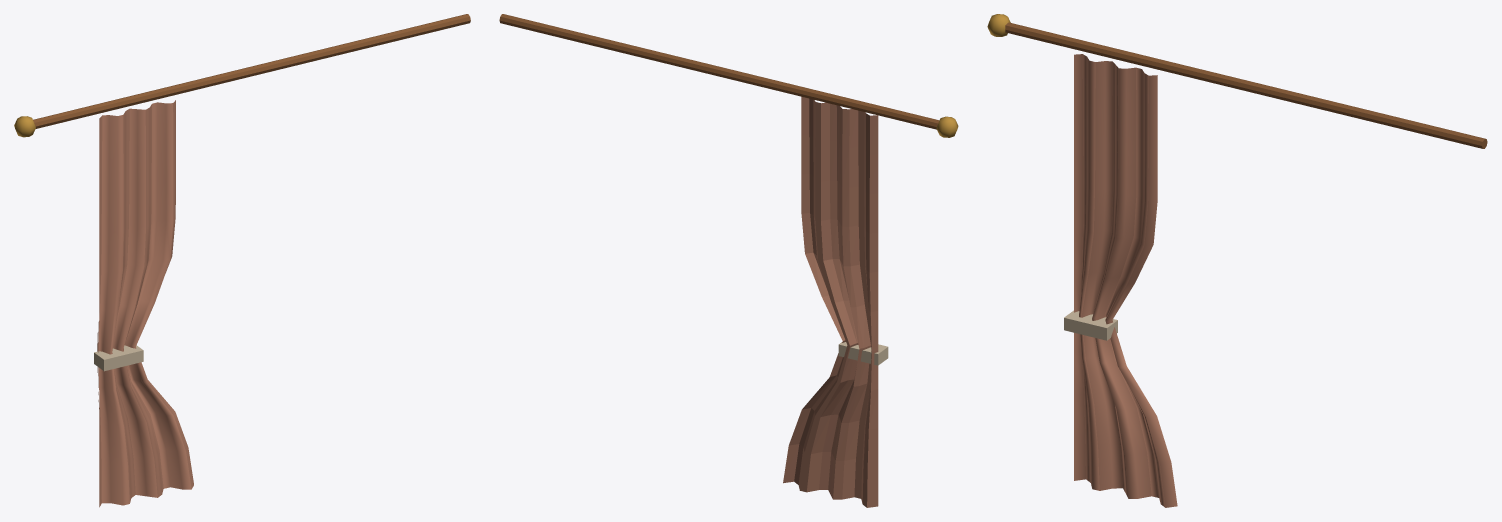
The model's file is curtain.glb.
The picture shows the model from 3 angles, left to right: view 1: azimuth 30°, elevation 25°; view 2: azimuth 150°, elevation 25°; view 3: azimuth 330°, elevation 25°; orthographic projection. The views are drawn at different scales.
Parts seen in each view (by area): view 1: body; view 2: body; view 3: body.
Boxes of the visible parts, x1,y1,x2,y2 form: body: (14, 14, 470, 507); body: (499, 14, 958, 507); body: (987, 14, 1487, 507).
Bounding box in the file's own units: 41.4 × 35.5 × 2.5.
